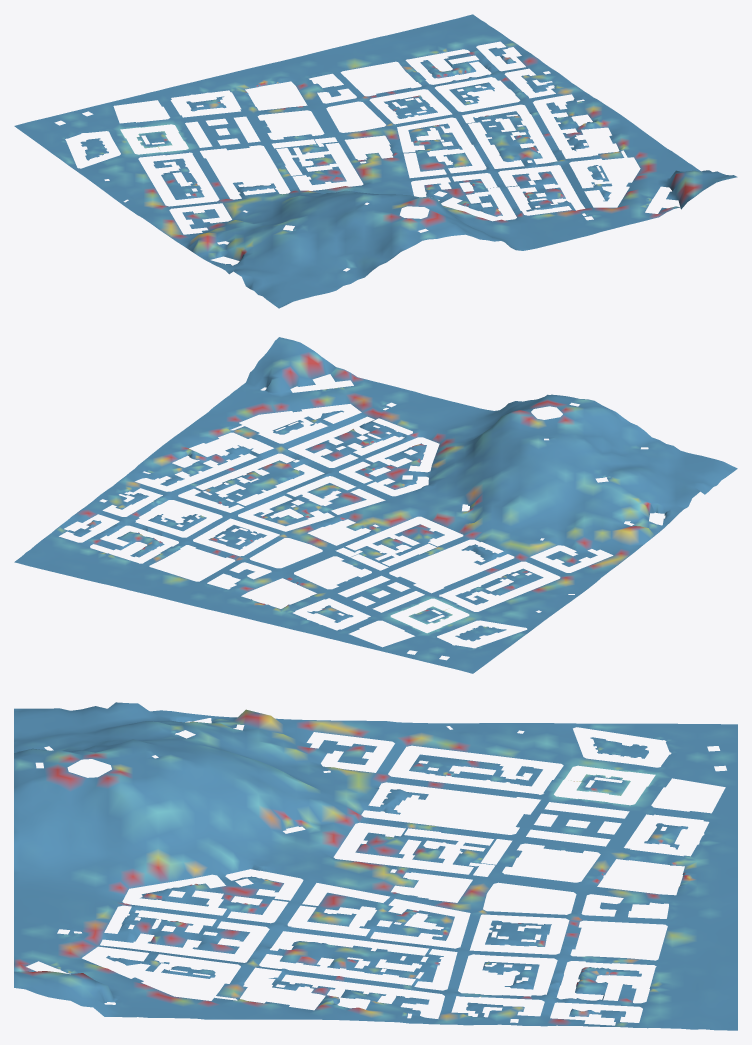
Rendered from field-baked.glb.
3 renders of one model, top to bottom at view 1: azimuth 30°, elevation 25°; view 2: azimuth 150°, elevation 25°; view 3: azimuth 270°, elevation 25°, orthographic. The views are drawn at different scales.
Parts seen in each view (by area): view 1: scene-root; view 2: scene-root; view 3: scene-root.
Boxes of the visible parts, x1,y1,x2,y2 form: scene-root: (14, 14, 737, 308); scene-root: (14, 337, 737, 673); scene-root: (14, 702, 737, 1030).
Size of the model in its own units: 500 by 53.09 by 500.
